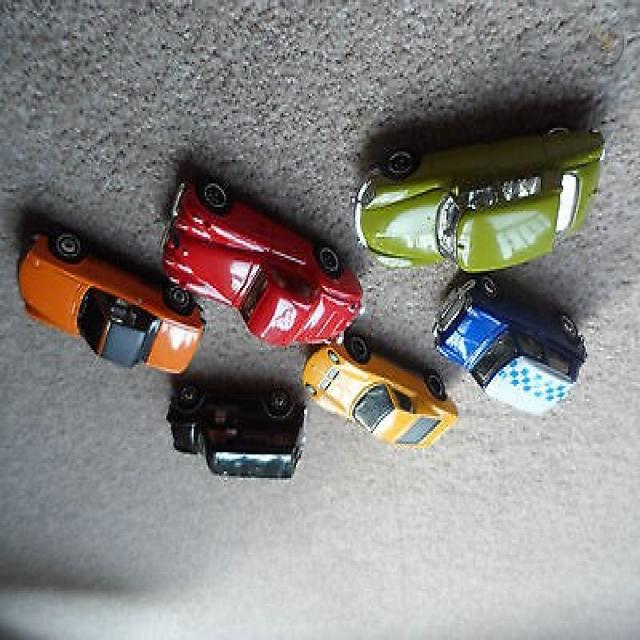Car: (354, 126, 606, 275), (160, 177, 365, 350), (18, 226, 206, 378), (432, 275, 589, 418), (302, 335, 460, 452), (166, 384, 309, 482)
